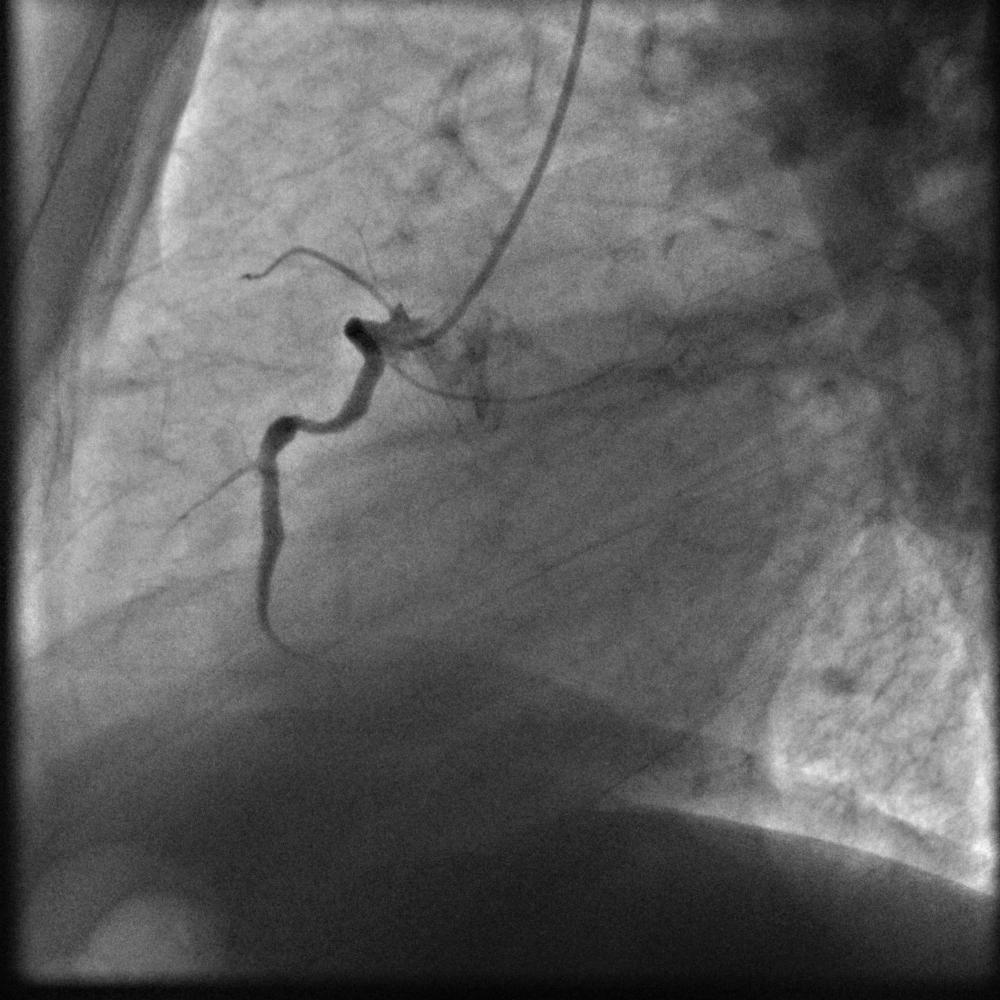Stenosis: (291, 412, 332, 438)
